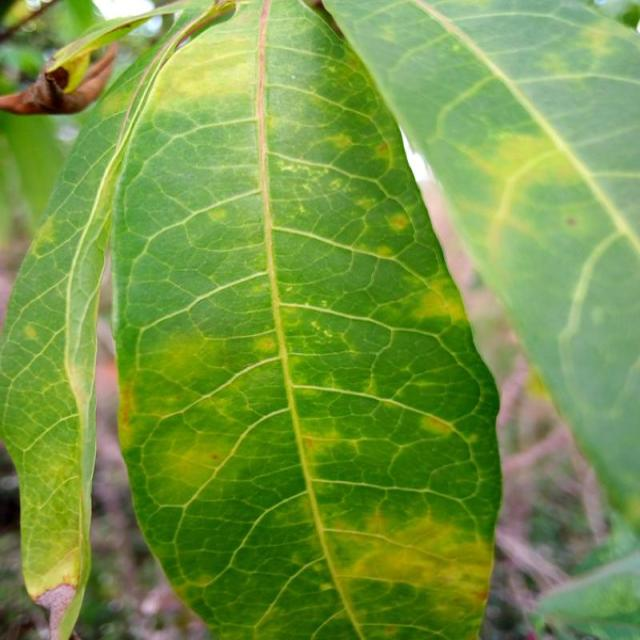cassava leaf: (107, 0, 504, 638), (320, 0, 639, 532)
